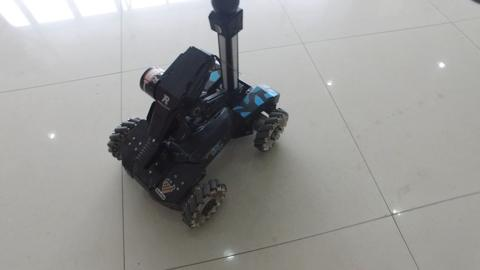chariot: (107, 4, 298, 219)
